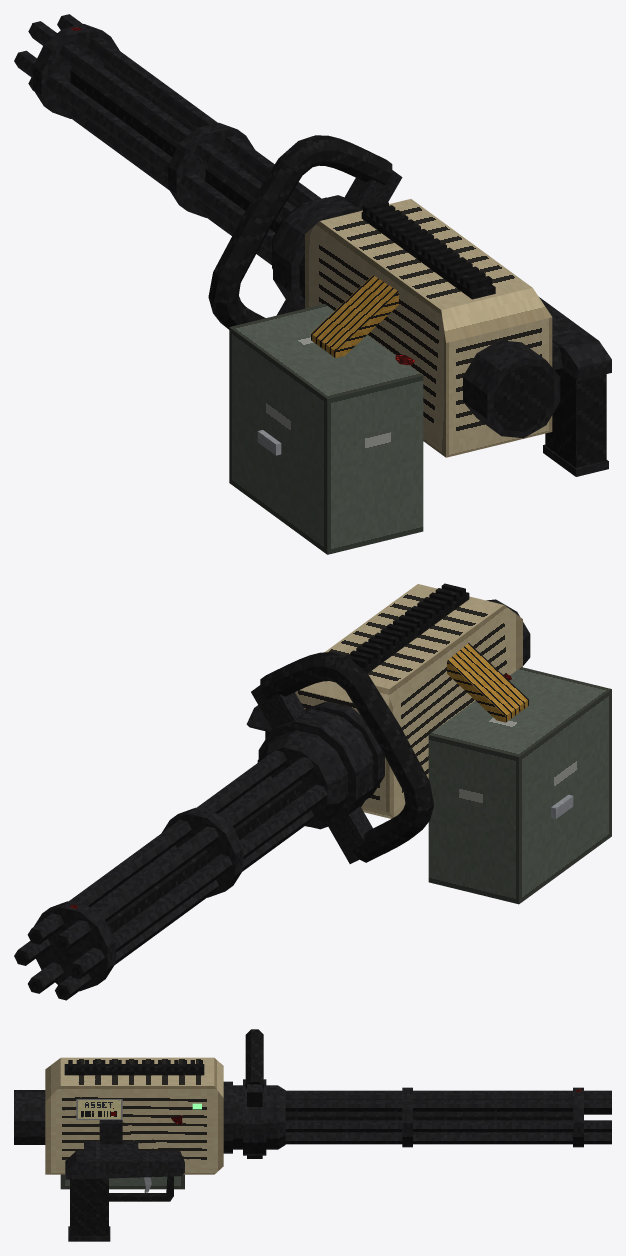
Rendered from minigun.glb.
3 renders of one model, top to bottom at view 1: azimuth 30°, elevation 25°; view 2: azimuth 150°, elevation 25°; view 3: azimuth 270°, elevation 25°, orthographic. The views are drawn at different scales.
Parts seen in each view (by area): view 1: Minigun, Barrels; view 2: Minigun, Barrels; view 3: Minigun, Barrels.
Boxes of the visible parts, box(x1,y1,x2,y2) form: Minigun: box(208, 135, 611, 554); Barrels: box(14, 14, 326, 291); Minigun: box(246, 583, 611, 904); Barrels: box(14, 716, 372, 1000); Minigun: box(14, 1029, 266, 1241); Barrels: box(233, 1085, 611, 1149).
Bounding box in the file's own units: 0.276 × 0.2424 × 0.7704.
9 materials, 9 textured.
